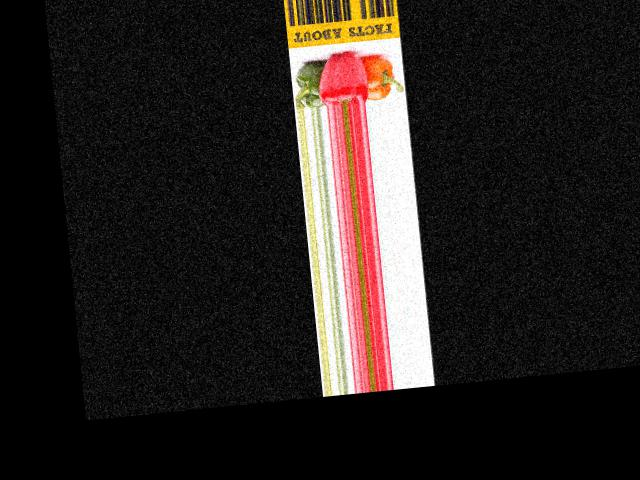bell_pepper: (291, 53, 323, 108)
